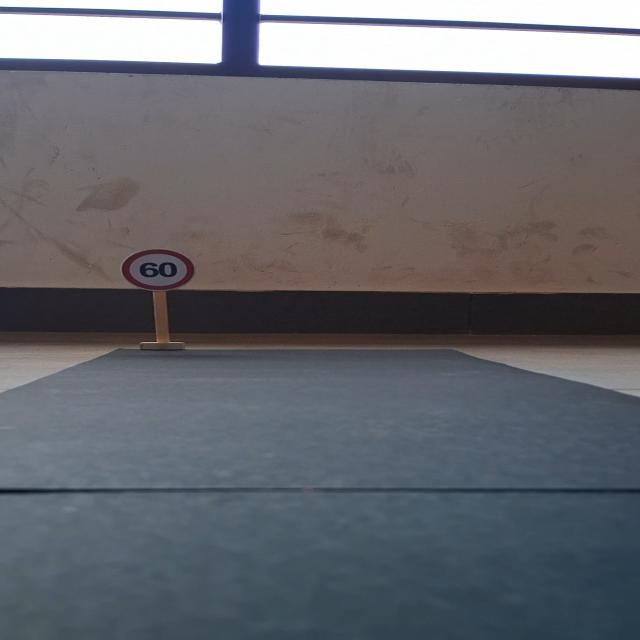Speed60: (119, 248, 202, 289)
